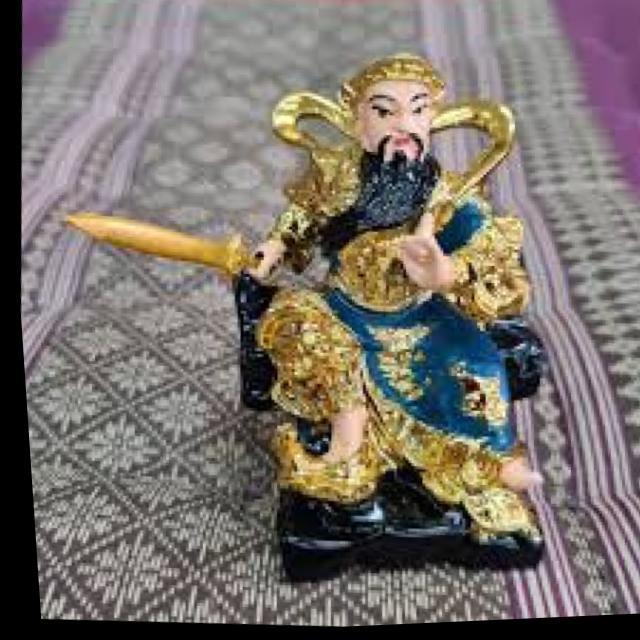Xuan wu: (200, 40, 564, 559)
